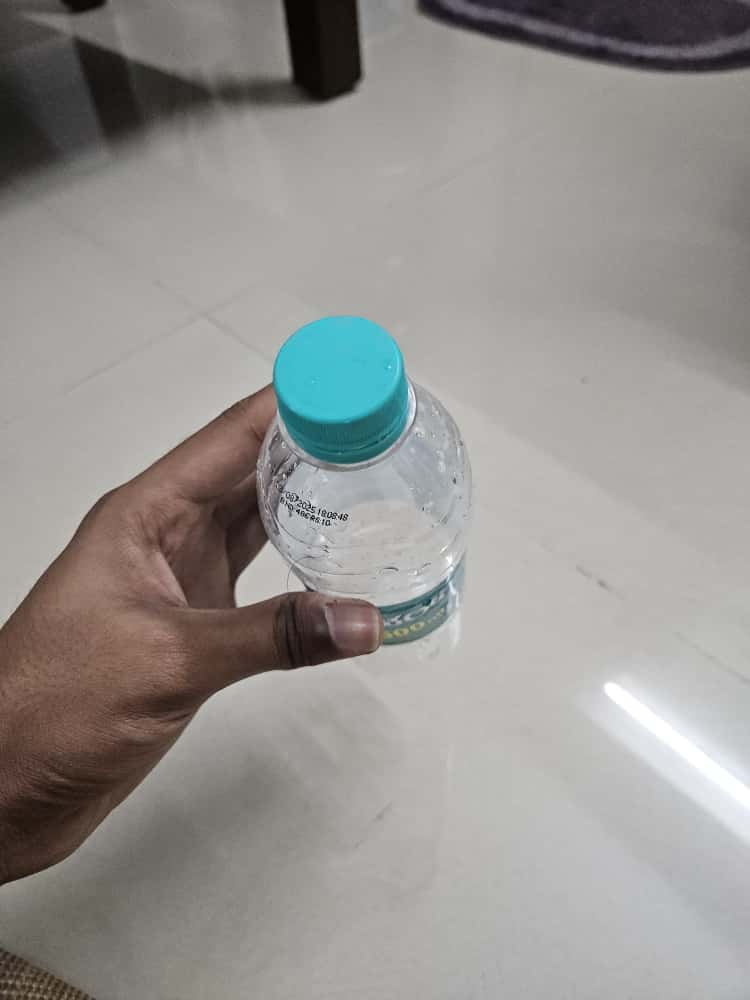dry: (182, 323, 564, 744)
